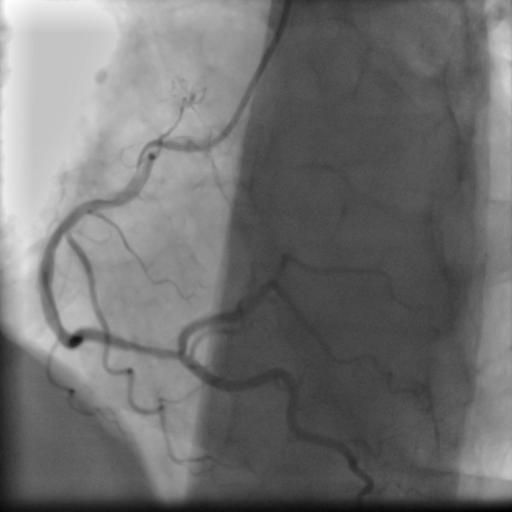Stenosis: (123, 333, 176, 362)
